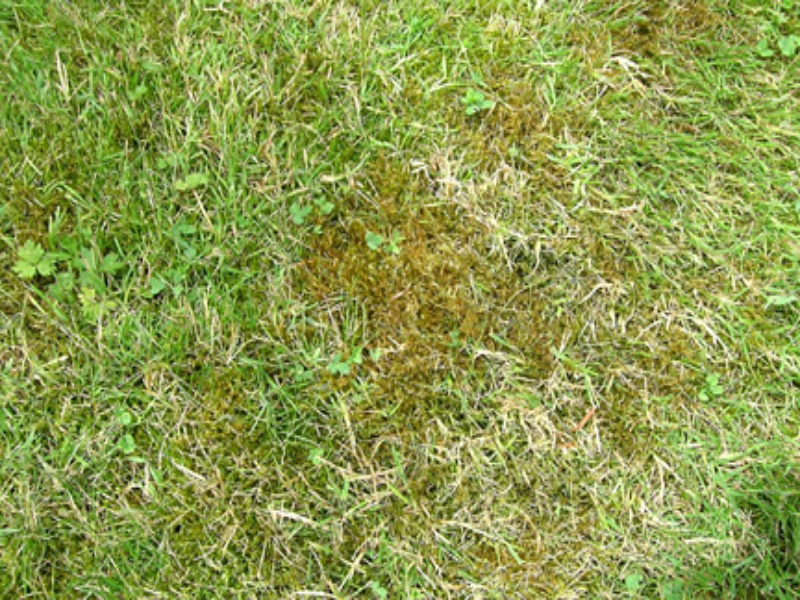weed: (758, 22, 799, 65), (14, 242, 58, 281), (288, 194, 335, 223), (176, 173, 210, 206), (460, 87, 496, 115), (367, 228, 406, 253), (699, 371, 728, 402)
